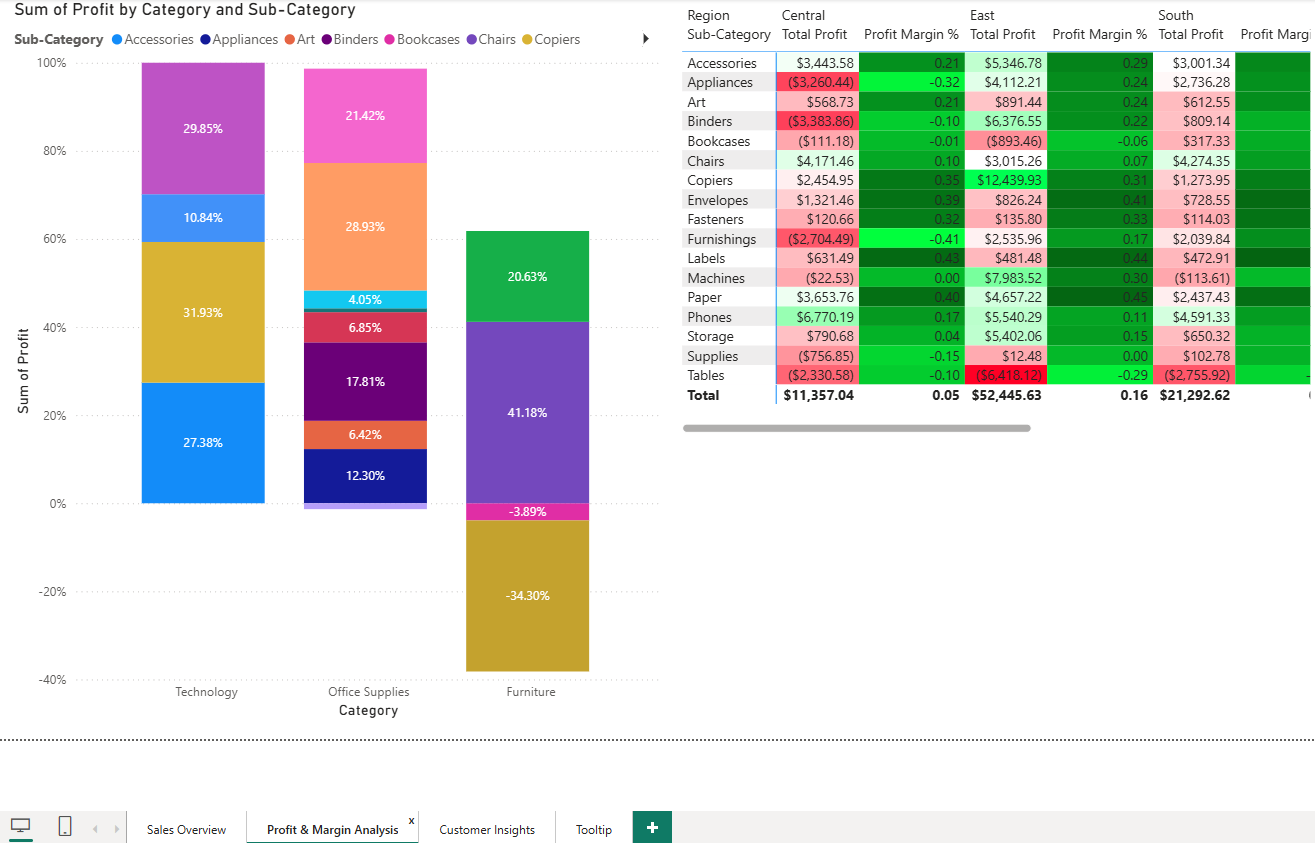

The dashboard page shown, as its layout file describes it:
{"tool":"powerbi","page":{"name":"Profit & Margin Analysis","canvas":[1280,720],"ordinal":1},"visuals":[{"type":"hundredPercentStackedColumnChart","fields":{"Category":["superstore.Category"],"Y":["Sum(superstore.Profit)"],"Series":["superstore.Sub-Category"]},"box":[9.7,0,639,705.2],"z":0},{"type":"pivotTable","fields":{"Rows":["superstore.Sub-Category"],"Columns":["superstore.Region"],"Values":["DateTable.Total Profit","DateTable.Profit Margin %"]},"box":[659.5,0,620.5,427],"z":1000}]}

Visuals, with their boxes on the page's 1280x720 design canvas (x1, y1, x2, y2). These are canvas units, not pixel positions in the 1315x843 screenshot, which may show the page scaled, cropped or inside an application window:
hundredPercentStackedColumnChart - superstore.Category x Sum(superstore.Profit): select_region(10, 0, 649, 705)
pivotTable - superstore.Sub-Category x superstore.Region: select_region(660, 0, 1280, 427)
